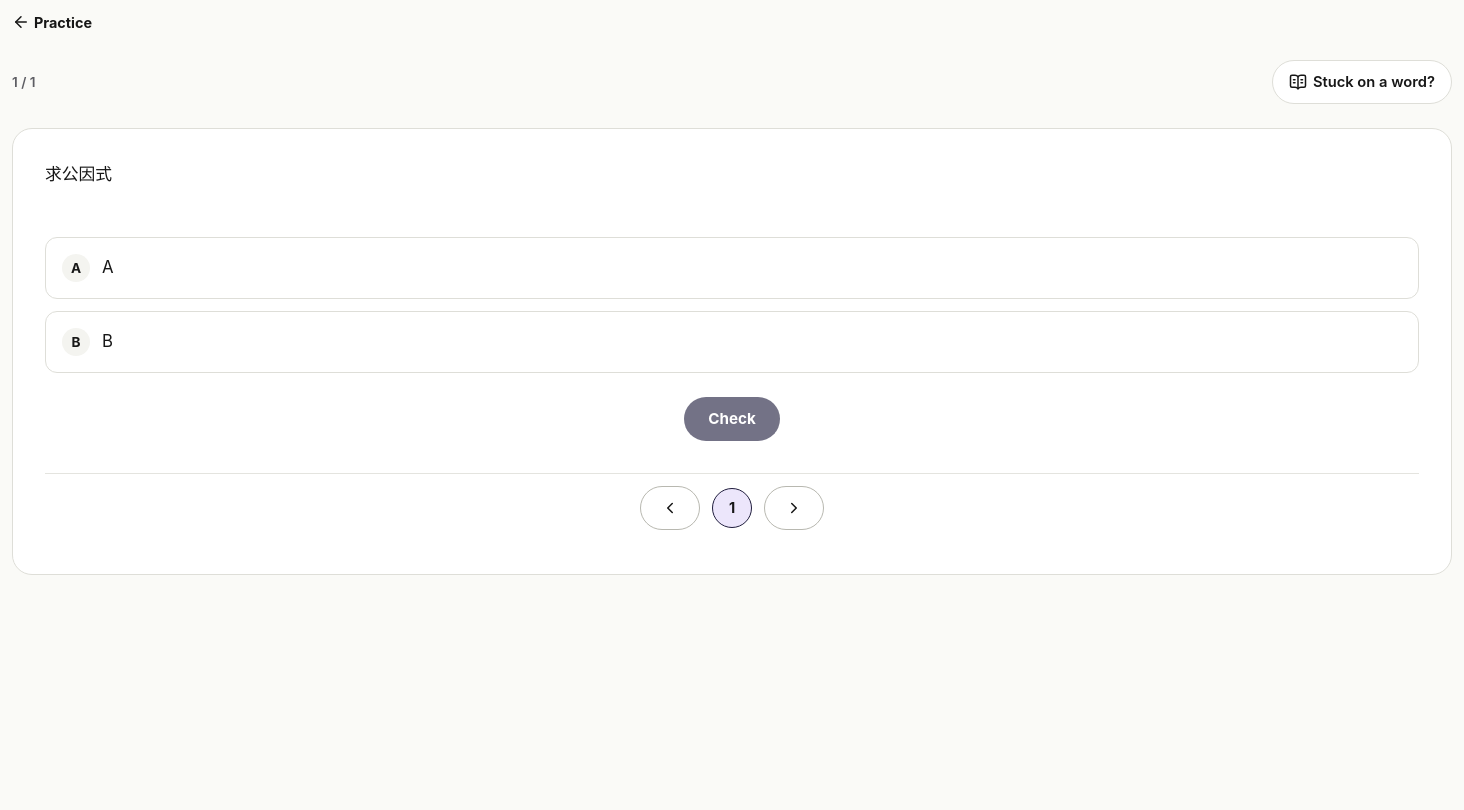
it: for zh-CN exam language, shows Stuck on a word initially and replaces with Open term notebook after disclose
Expected: the link "open term notebook" is not shown
Click the button "Stuck on a word?".
click(1362, 82)  # box [1272, 60, 1452, 104]
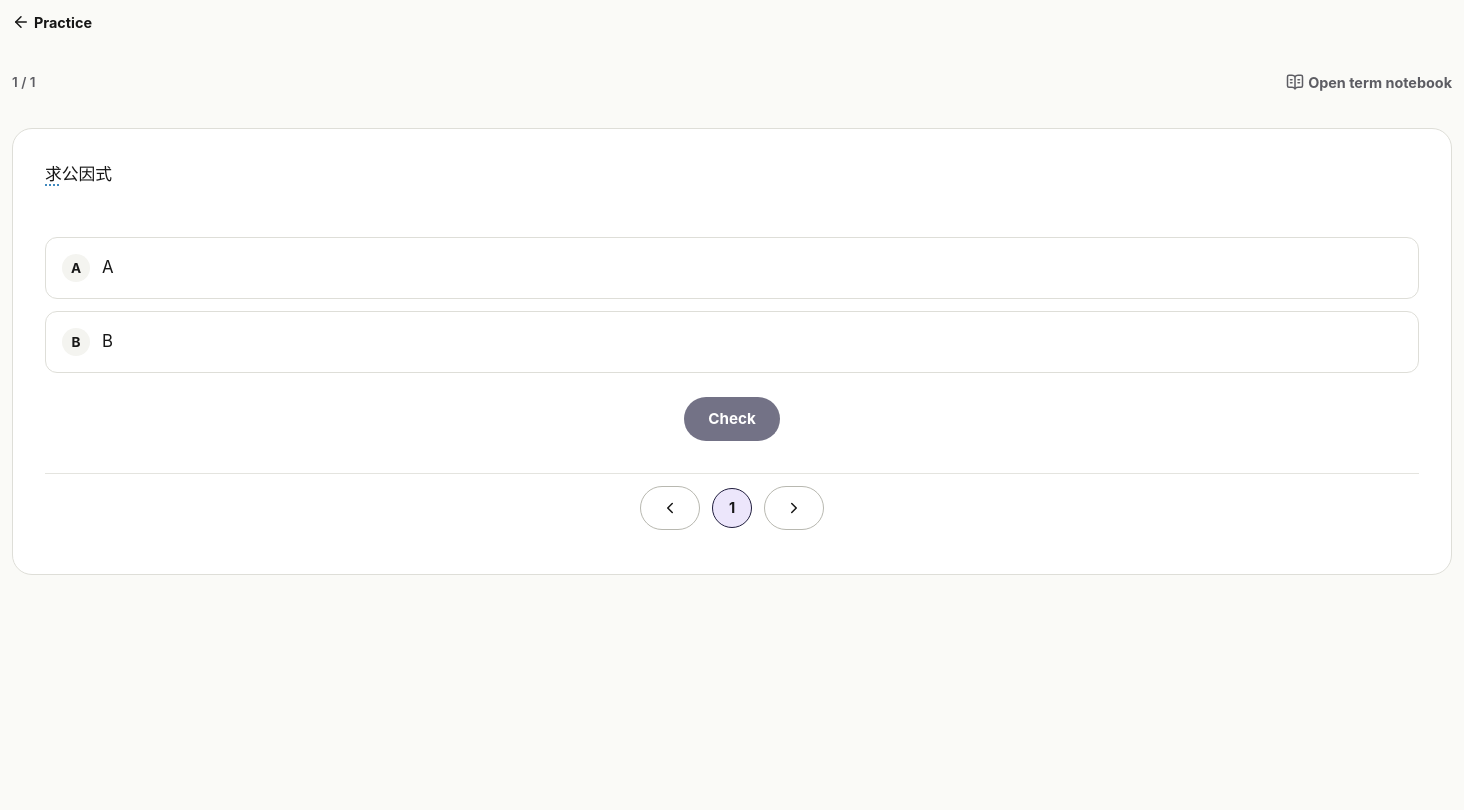
Expected: the button "Stuck on a word" is gone
Expected: the link "Open term notebook" is shown, [1286, 73, 1452, 91]
